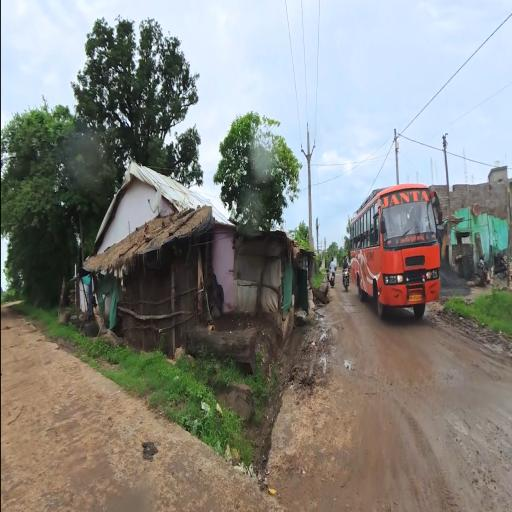drainage_issue: (216, 365, 315, 503), (276, 297, 332, 400)
